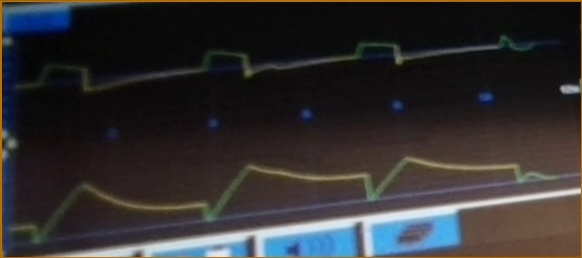Flow: (19, 29, 538, 102)
Leakage Volume: (12, 150, 543, 246)
